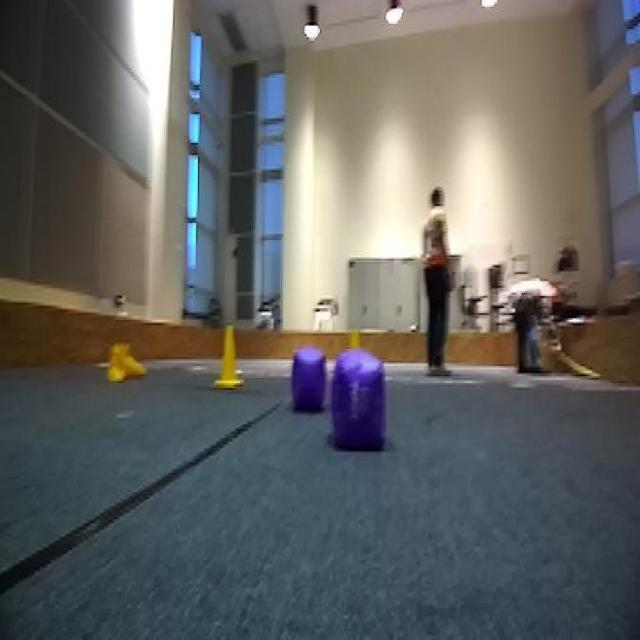frc_cone: (98, 337, 150, 385), (208, 332, 244, 385)
frc_cube: (334, 356, 385, 442), (292, 351, 326, 414)
